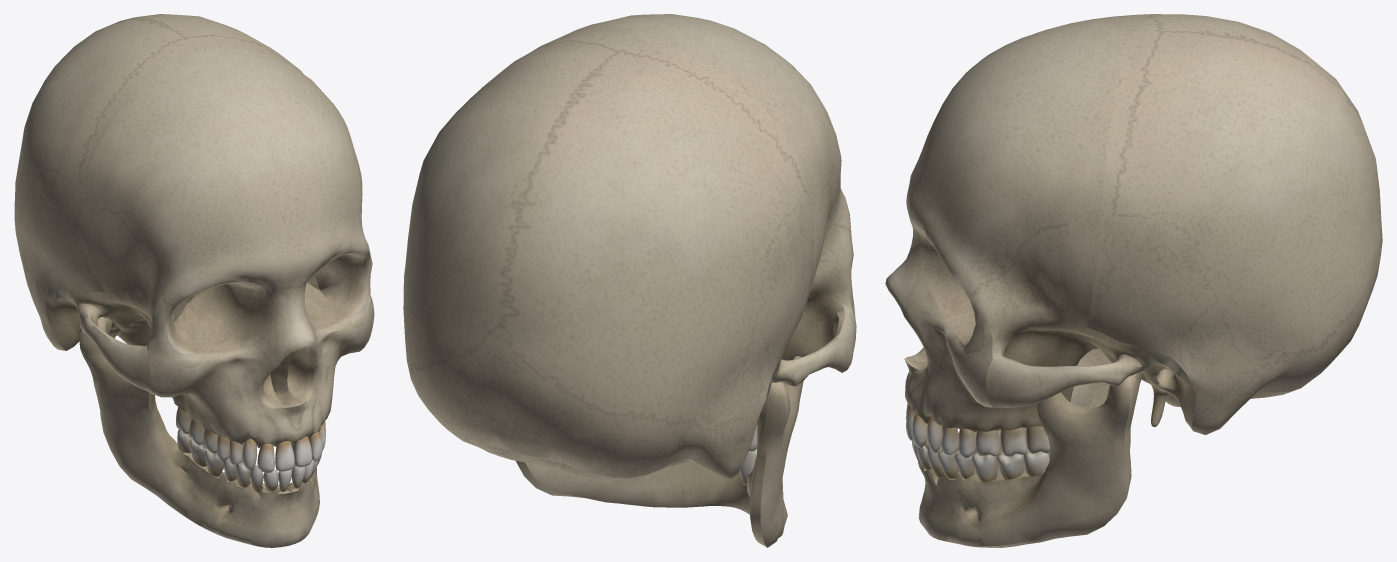
Rendered from calavera2.glb.
3 views of the same model, side by side, from view 1: azimuth 30°, elevation 25°; view 2: azimuth 150°, elevation 25°; view 3: azimuth 270°, elevation 25° (orthographic). The views are drawn at different scales.
Parts seen in each view (by area): view 1: Object_7, Object_5, Object_6, Object_4, Object_2, Object_3; view 2: Object_5, Object_7, Object_6; view 3: Object_5, Object_7, Object_6, Object_4, Object_3, Object_2.
Part boxes in pixels (<box>): Object_7: <box>83,48,374,447</box>; Object_5: <box>14,14,372,488</box>; Object_6: <box>46,288,319,547</box>; Object_4: <box>166,252,367,481</box>; Object_2: <box>77,309,322,491</box>; Object_3: <box>176,407,325,492</box>; Object_5: <box>403,31,856,515</box>; Object_7: <box>565,14,855,360</box>; Object_6: <box>466,356,803,547</box>; Object_5: <box>926,14,1382,477</box>; Object_7: <box>885,16,1122,431</box>; Object_6: <box>918,328,1299,547</box>; Object_4: <box>930,243,1049,481</box>; Object_3: <box>927,416,1049,478</box>; Object_2: <box>906,350,1178,469</box>.
Size of the model in its own units: 1.62 by 2.47 by 2.24.
1 material, 1 textured.
